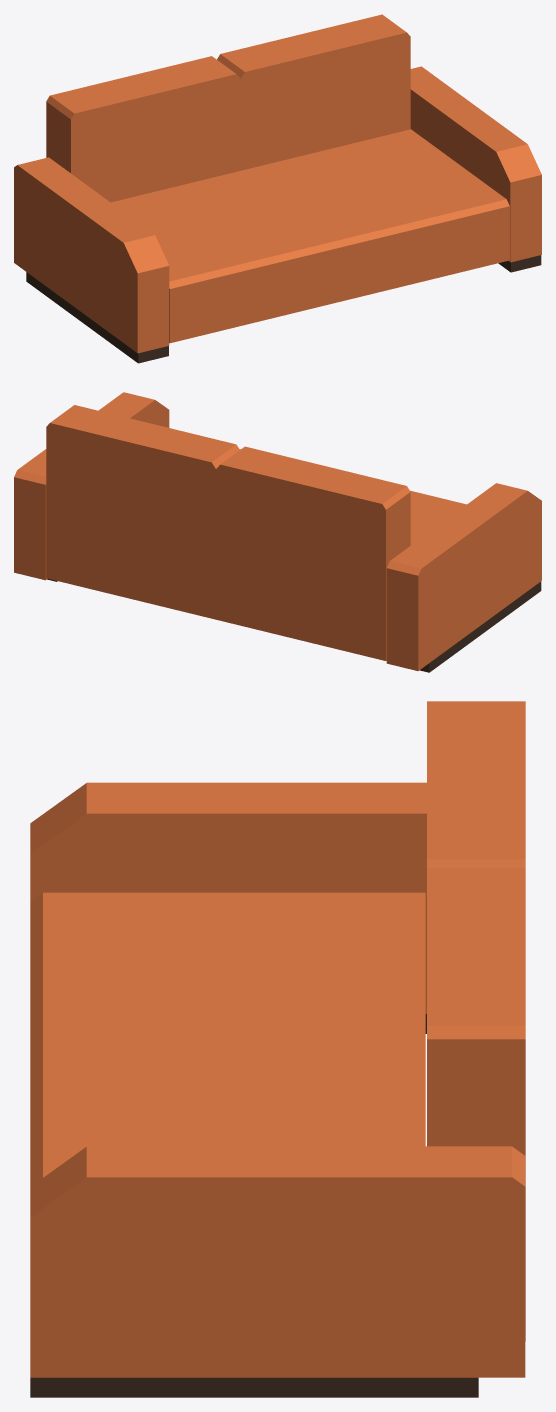
Rendered from Accesories_Sofa.glb.
The picture shows the model from 3 angles, top to bottom: view 1: azimuth 30°, elevation 25°; view 2: azimuth 150°, elevation 25°; view 3: azimuth 270°, elevation 25°; orthographic projection. The views are drawn at different scales.
Parts seen in each view (by area): view 1: Accesories_Sofa; view 2: Accesories_Sofa; view 3: Accesories_Sofa.
Boxes of the visible parts, <box> form: Accesories_Sofa: <box>14,14,541,363</box>; Accesories_Sofa: <box>14,392,541,672</box>; Accesories_Sofa: <box>30,701,525,1397</box>.
Size of the model in its own units: 1.88 by 0.7512 by 0.9991.
Materials: 1 (1 with a texture image).
